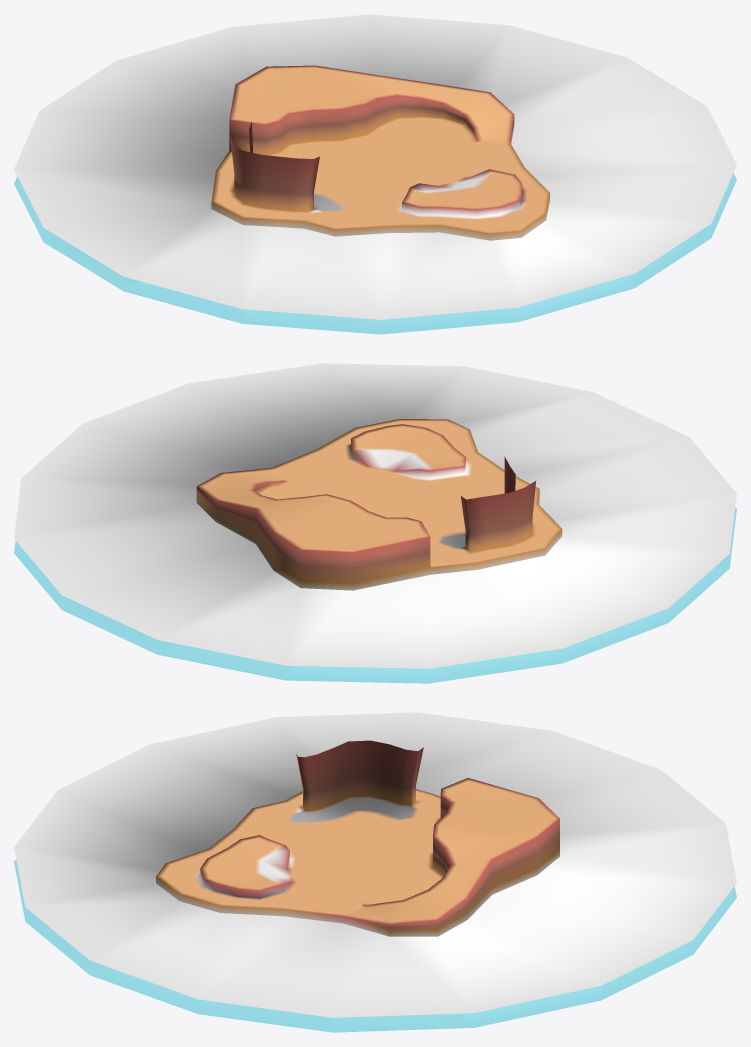
Rendered from testarea.glb.
3 renders of one model, top to bottom at view 1: azimuth 30°, elevation 25°; view 2: azimuth 150°, elevation 25°; view 3: azimuth 270°, elevation 25°, orthographic.
Parts seen in each view (by area): view 1: Circle; view 2: Circle; view 3: Circle.
Boxes of the visible parts, box(x1,y1,x2,y2) form: Circle: box(14, 14, 736, 334); Circle: box(14, 363, 736, 683); Circle: box(14, 712, 736, 1032).
Size of the model in its own units: 195 by 22.82 by 195.
